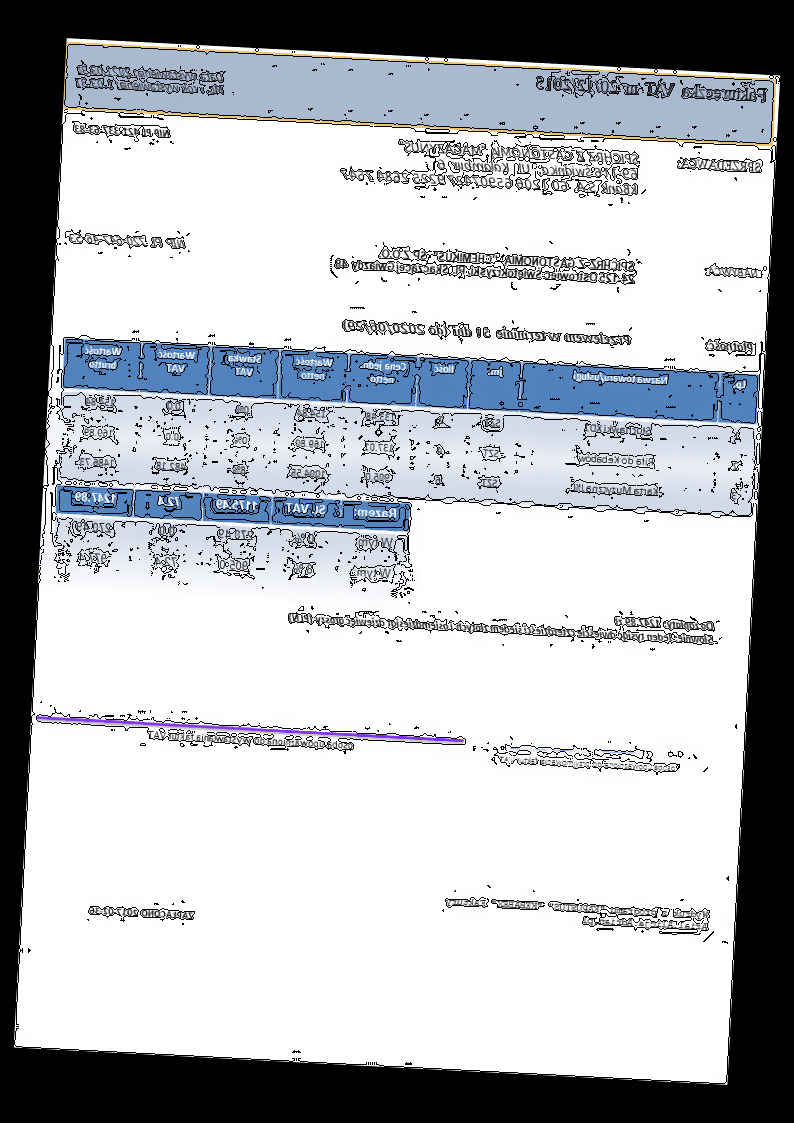Table: (57, 336, 761, 516), (51, 484, 412, 596)
TextBox: (287, 596, 717, 649), (337, 134, 644, 200), (333, 242, 639, 289), (442, 895, 712, 933), (341, 318, 632, 347), (534, 73, 769, 105), (73, 61, 226, 99), (145, 728, 356, 754), (497, 752, 678, 774), (67, 230, 188, 252), (71, 120, 173, 141), (88, 903, 197, 922), (675, 155, 765, 177), (703, 263, 760, 280), (704, 337, 757, 355)
